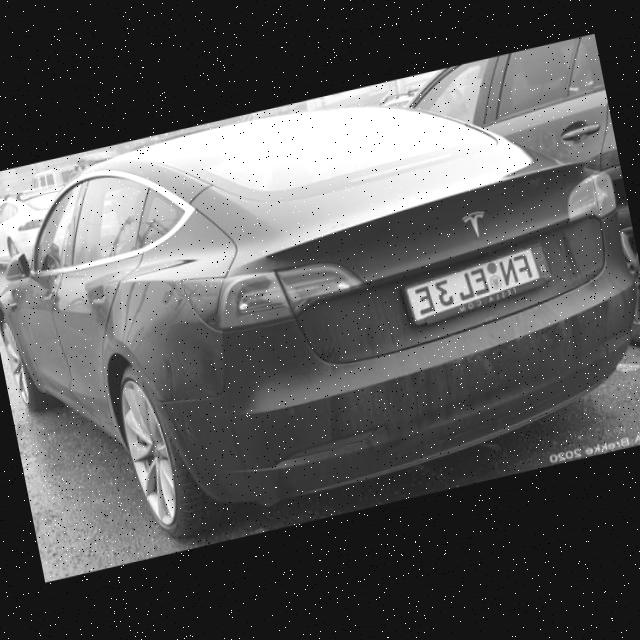license-plates: (406, 245, 552, 323)
